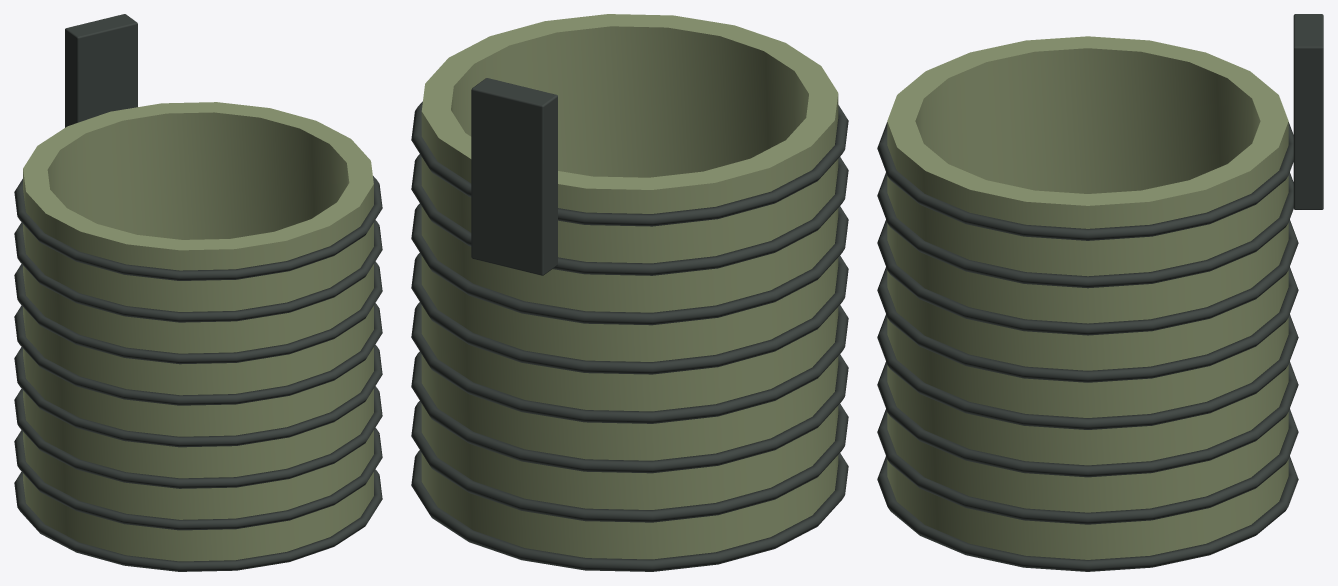
File: backpacks-and-expedition-storage-mesh-dump-pouch-2488fc46__21093.glb
3 renders of one model, left to right at view 1: azimuth 30°, elevation 25°; view 2: azimuth 150°, elevation 25°; view 3: azimuth 270°, elevation 25°, orthographic. The views are drawn at different scales.
Parts seen in each view (by area): view 1: mesh-dump-pouch; view 2: mesh-dump-pouch; view 3: mesh-dump-pouch.
Boxes of the visible parts, x1,y1,x2,y2 form: mesh-dump-pouch: (14,14,382,571); mesh-dump-pouch: (411,14,848,571); mesh-dump-pouch: (877,14,1323,571).
Bounding box in the file's own units: 0.21 × 0.25 × 0.2225.
